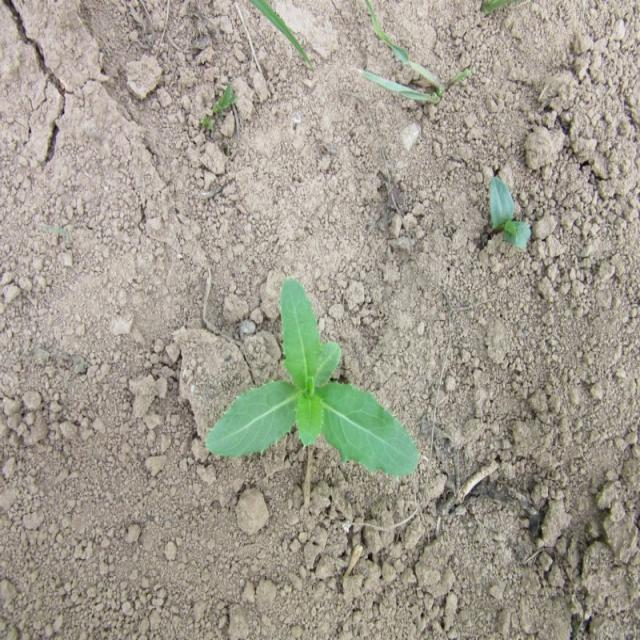cs: (200, 276, 422, 489)
